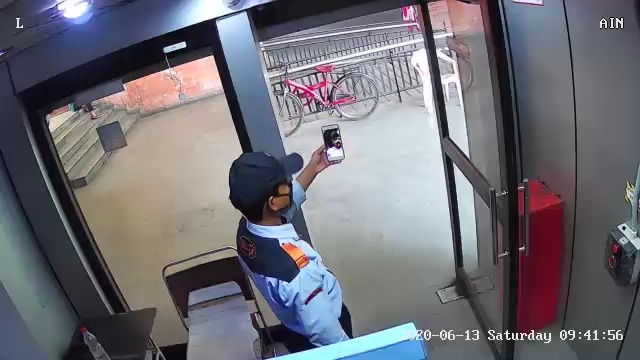open: (402, 10, 550, 346)
